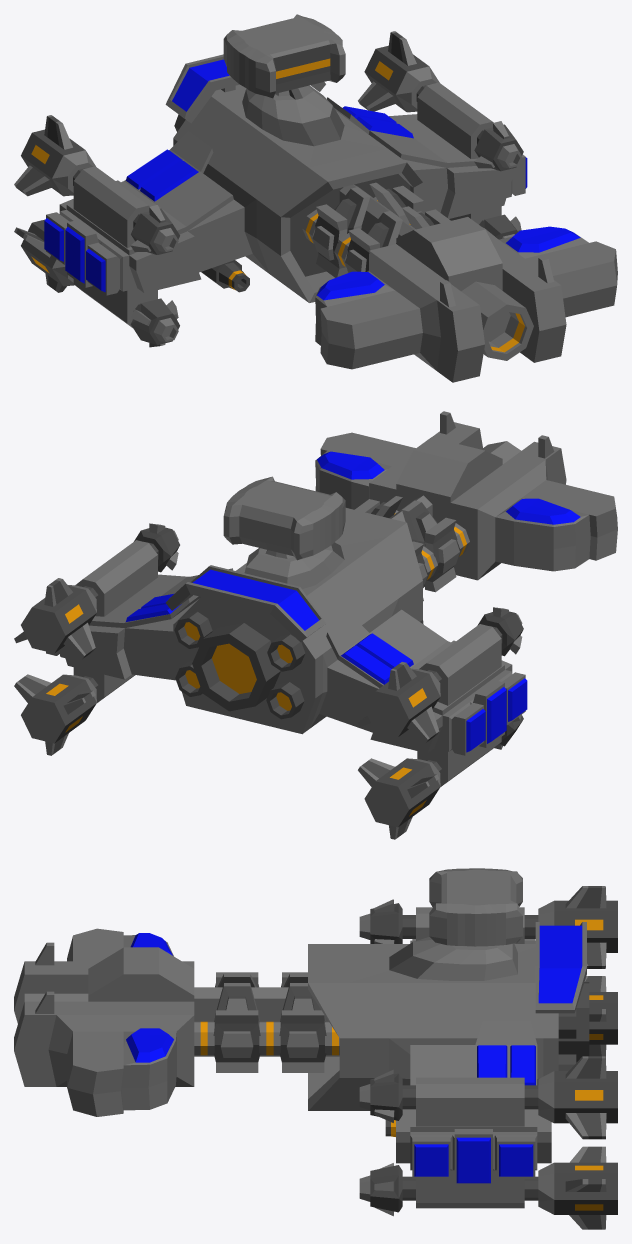
The model's file is Battlecruiser.fbx.
3 renders of one model, top to bottom at view 1: azimuth 30°, elevation 25°; view 2: azimuth 150°, elevation 25°; view 3: azimuth 270°, elevation 25°, orthographic.
Visible parts, largest first — view 1: Battlecruiser; view 2: Battlecruiser; view 3: Battlecruiser.
Boxes of the visible parts, x1,y1,x2,y2 form: Battlecruiser: (14, 14, 617, 382); Battlecruiser: (14, 411, 617, 839); Battlecruiser: (14, 868, 617, 1229).
Bounding box in the file's own units: 2355 × 1330 × 2846.
